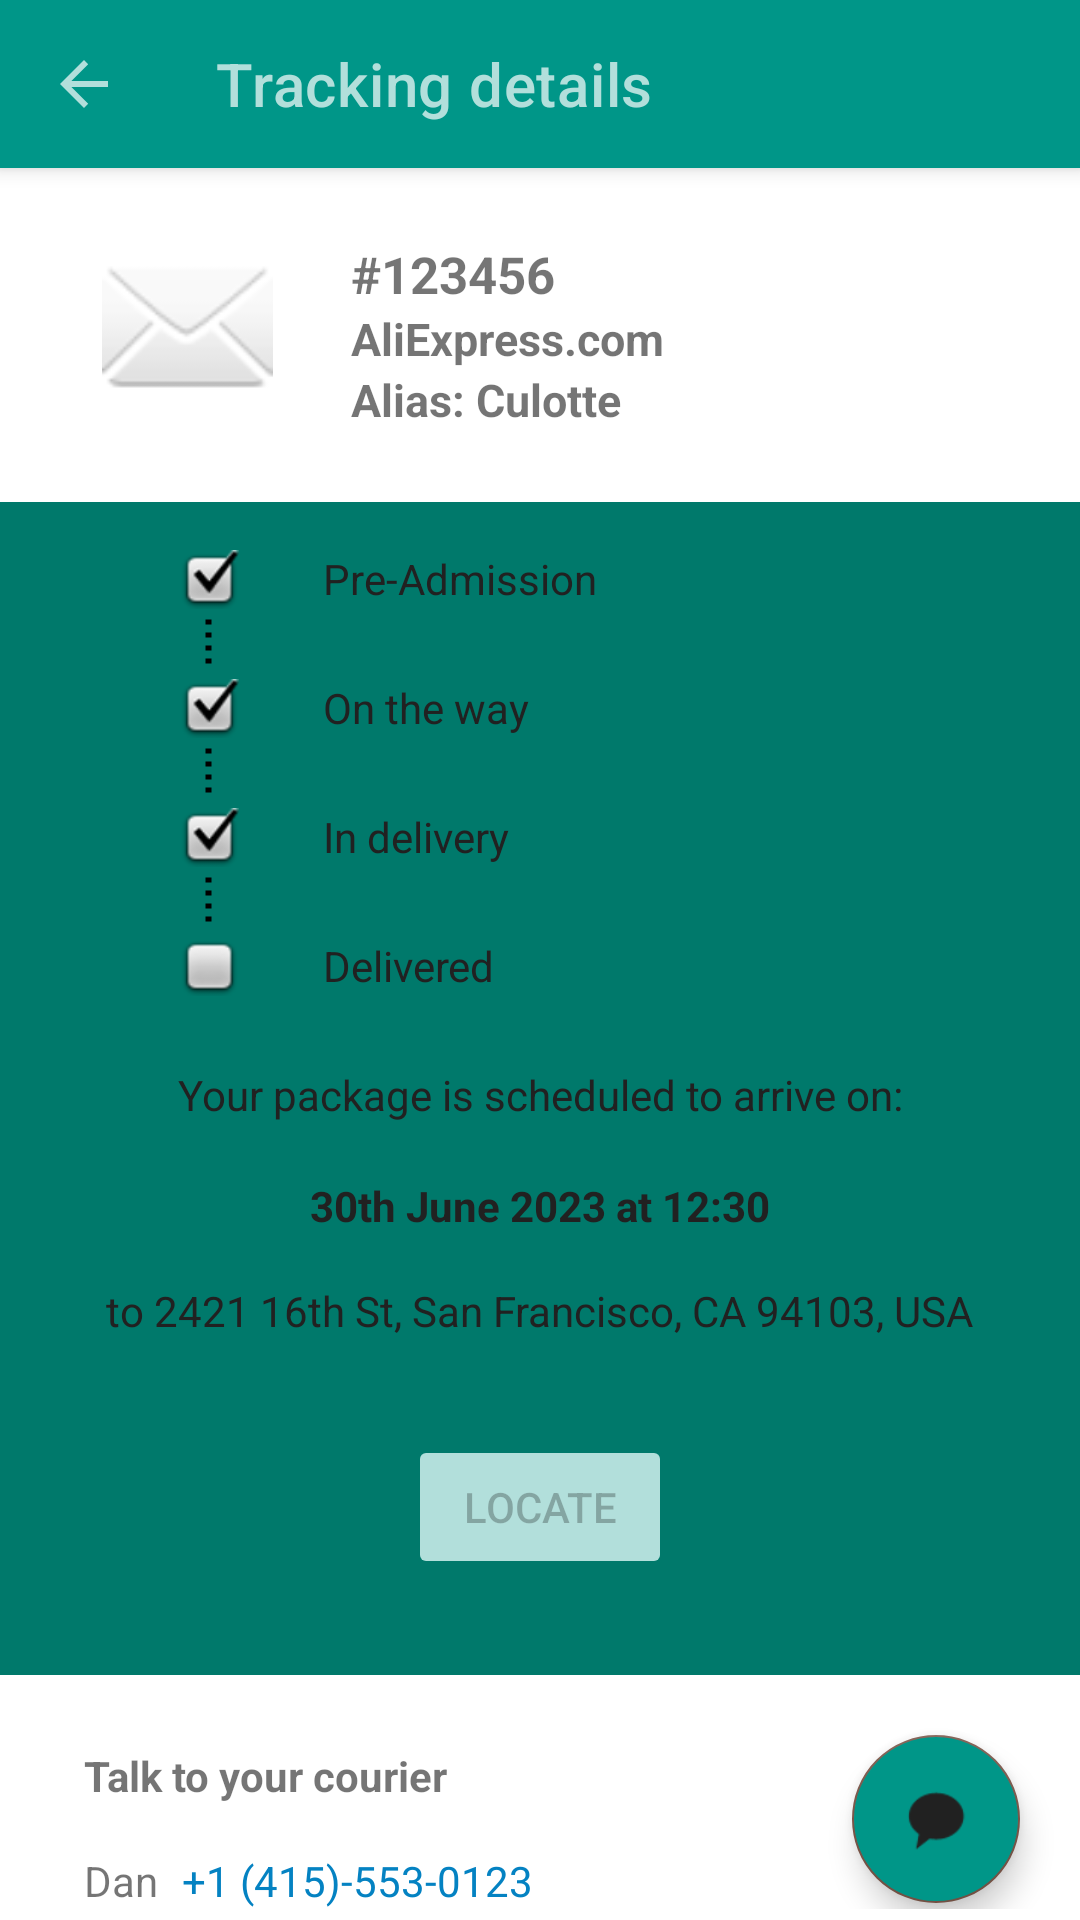

Named icons in this screenshot (1080px x 1920px) and their centers, (x=x, y=y):
Chat button: (x=936, y=1819)
email: (x=187, y=328)
